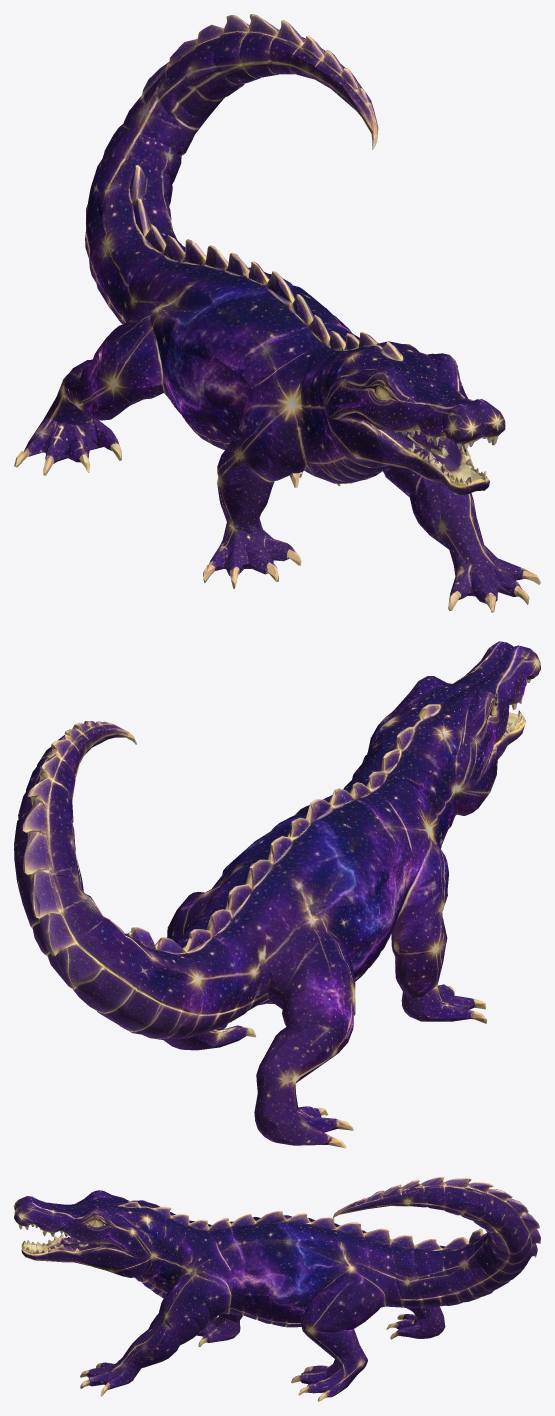
The model's file is crocodile.glb.
The picture shows the model from 3 angles, top to bottom: view 1: azimuth 30°, elevation 25°; view 2: azimuth 150°, elevation 25°; view 3: azimuth 270°, elevation 25°; orthographic projection. The views are drawn at different scales.
Bounding box in the file's own units: 0.8028 × 0.9059 × 1.9.
1 material, 1 textured.
